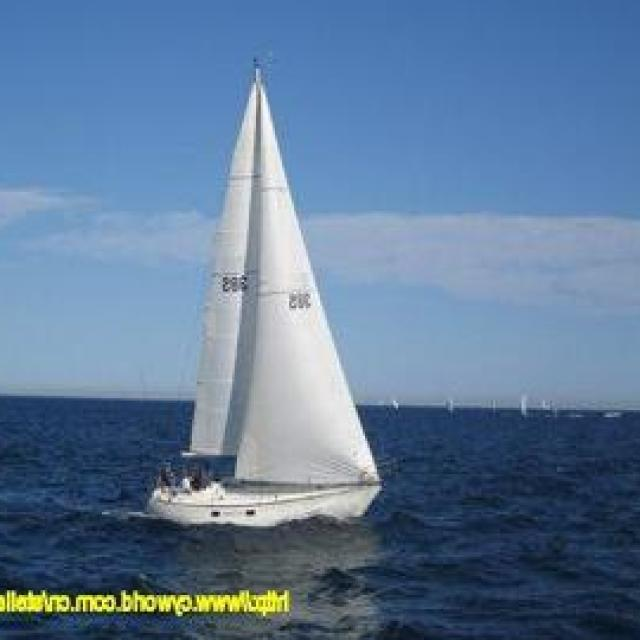sailboat: (150, 44, 390, 532)
